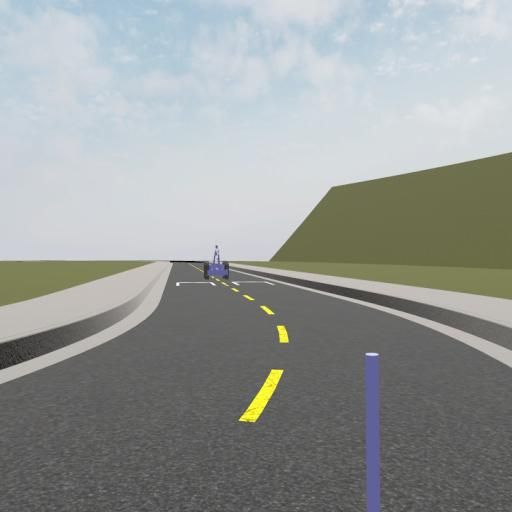ERP-42: (204, 244, 232, 281)
